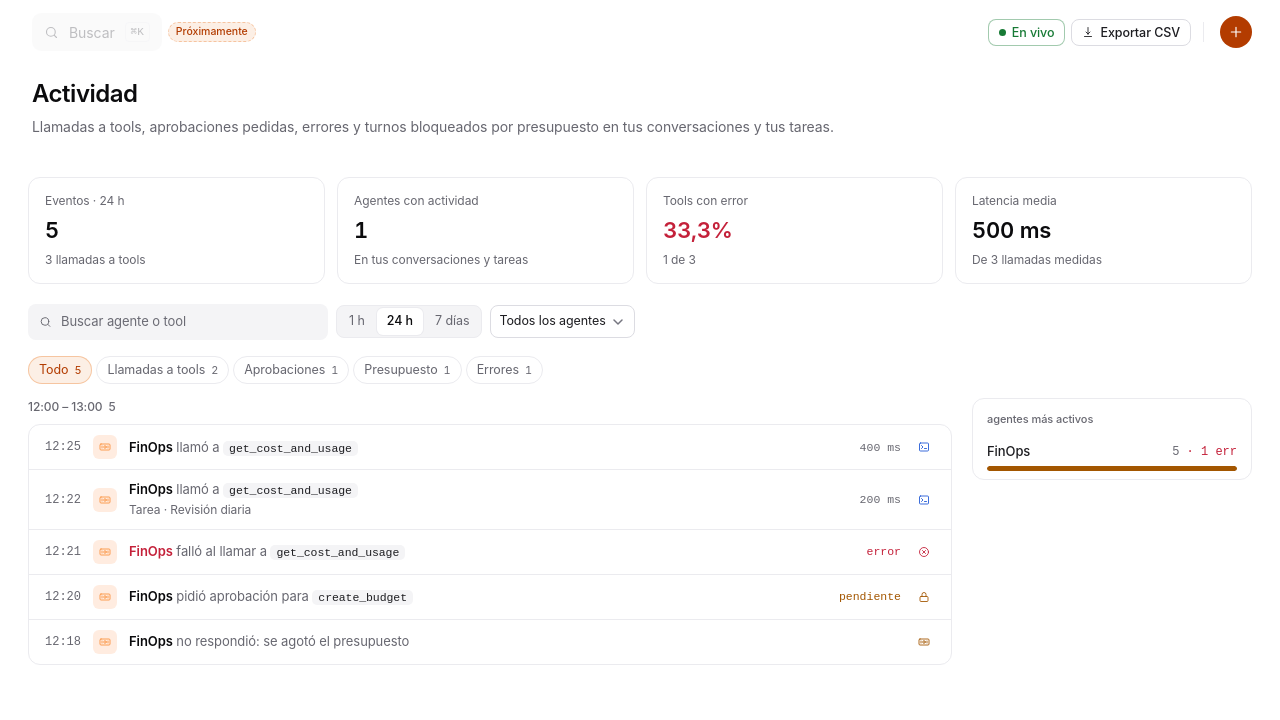
ActivityPage › filters by kind, agent and text
Expected: the button "Todo 5" is shown, [28,356,92,384]
Step 1. Click the button "Errores 1" → {"x": 504, "y": 370}, box [466,356,543,384]
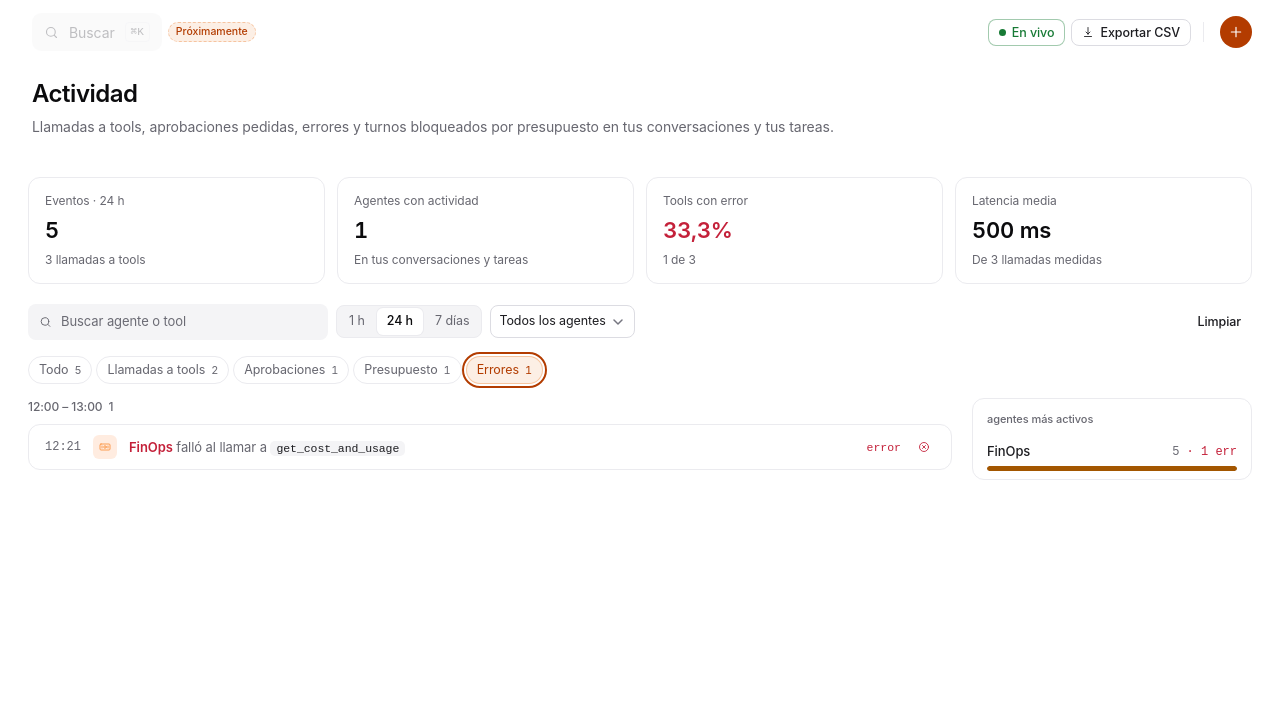
Expected: the number of elements with class "ac-row" is 1, [29,425,951,469]
Step 2. Click the button "Limpiar" → {"x": 1219, "y": 322}, box [1186,308,1252,335]
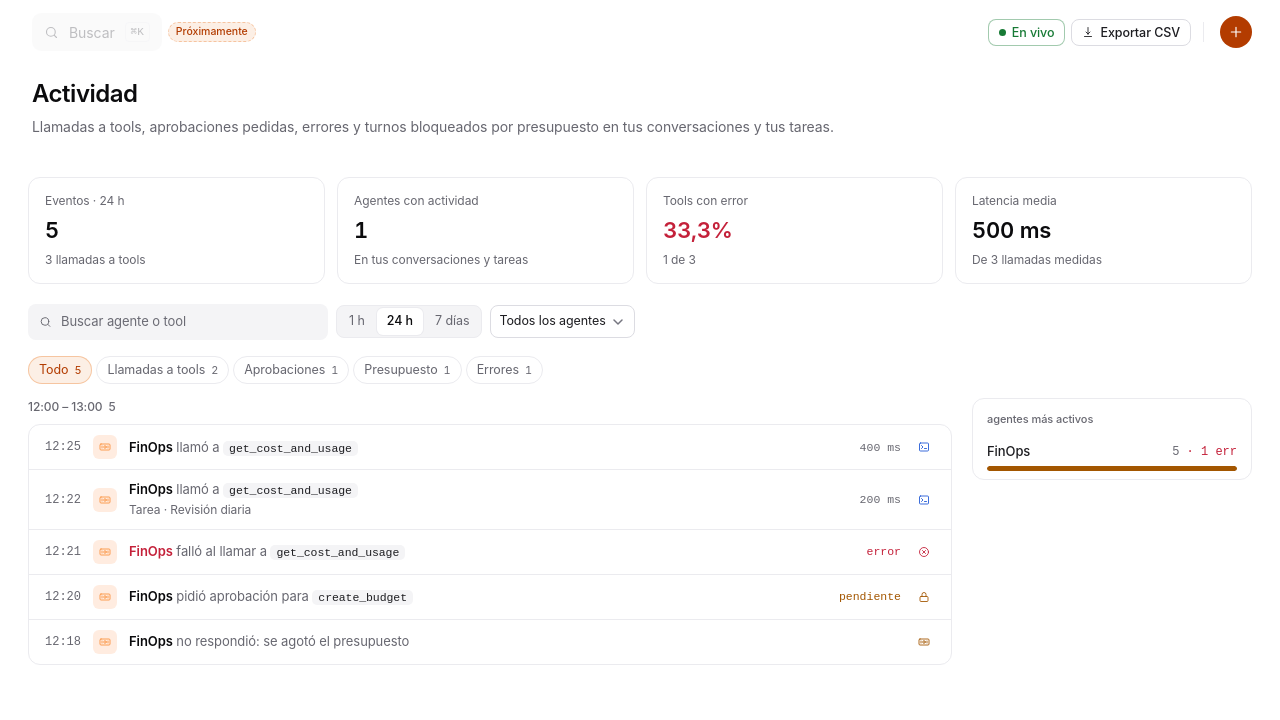
Step 3. Type "create_budget" into the field named "Buscar actividad" → {"x": 178, "y": 322}, box [28,304,328,340]
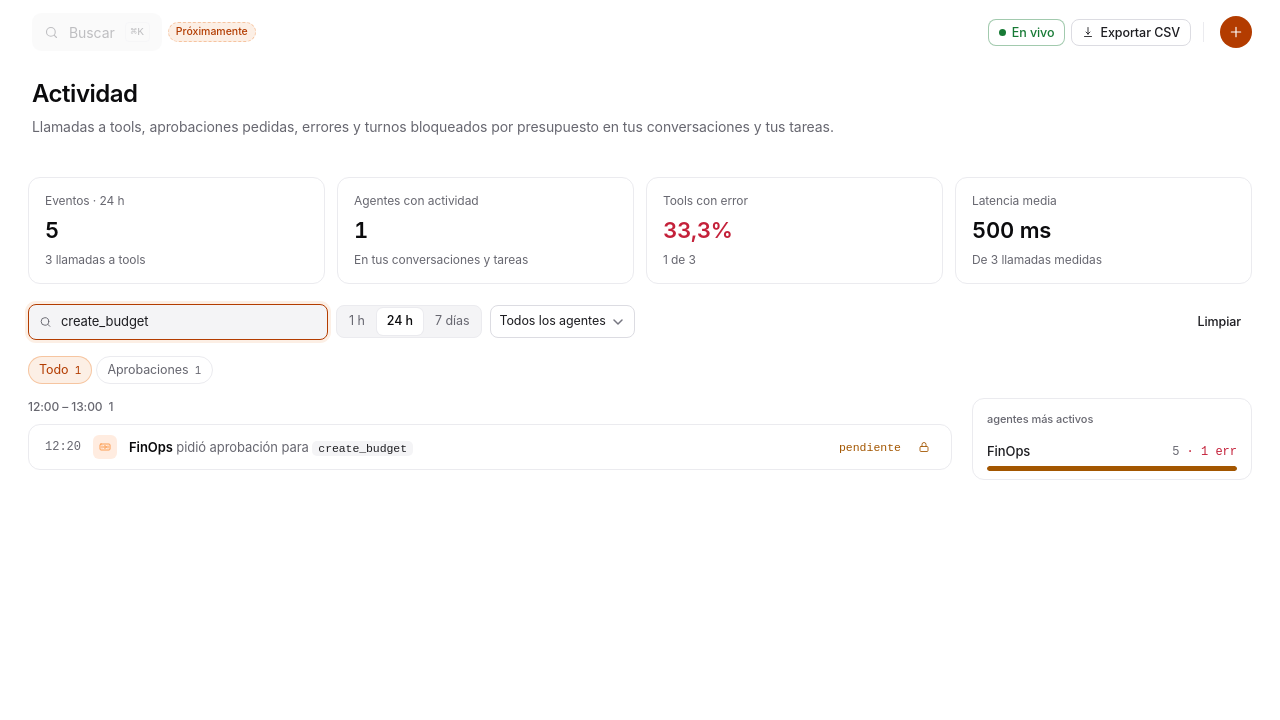
Expected: the number of elements with class "ac-row" is 1, [29,425,951,469]
Step 4. Replace the text in the field named "Buscar actividad" with "nada-coincide" → {"x": 178, "y": 322}, box [28,304,328,340]
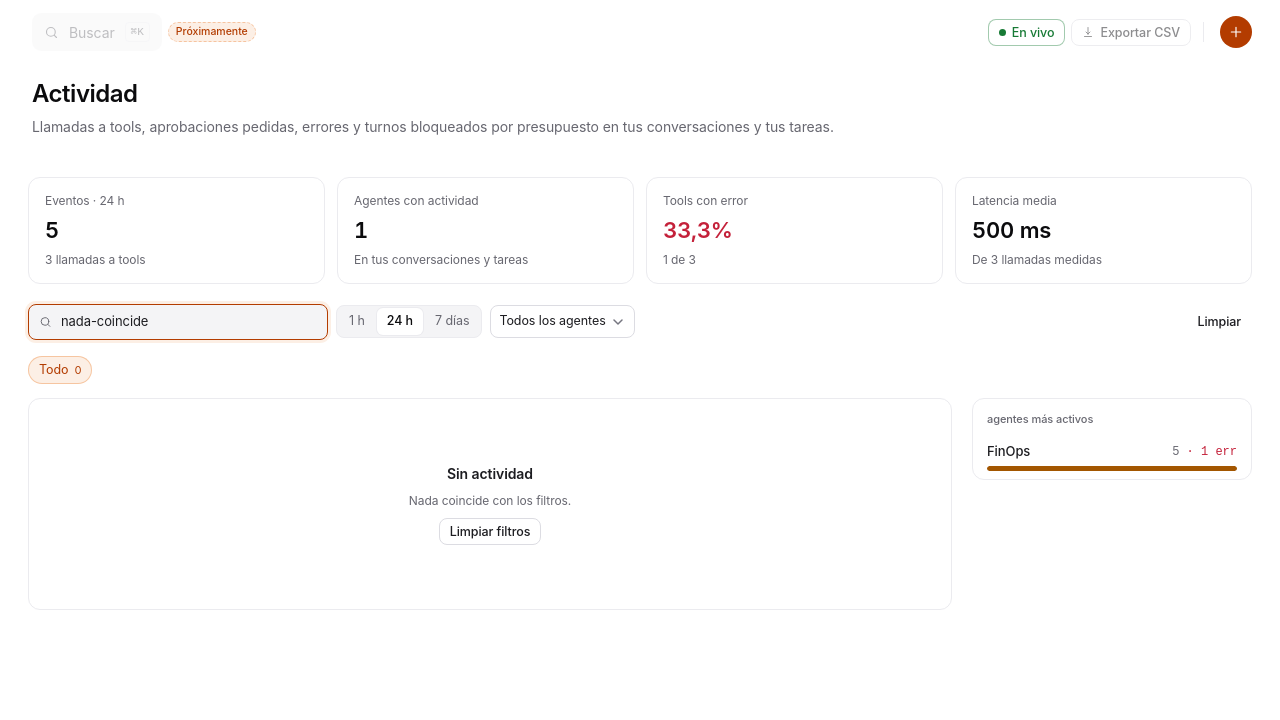
Expected: the text "Nada coincide con los filtros." is shown, [409,492,571,510]
